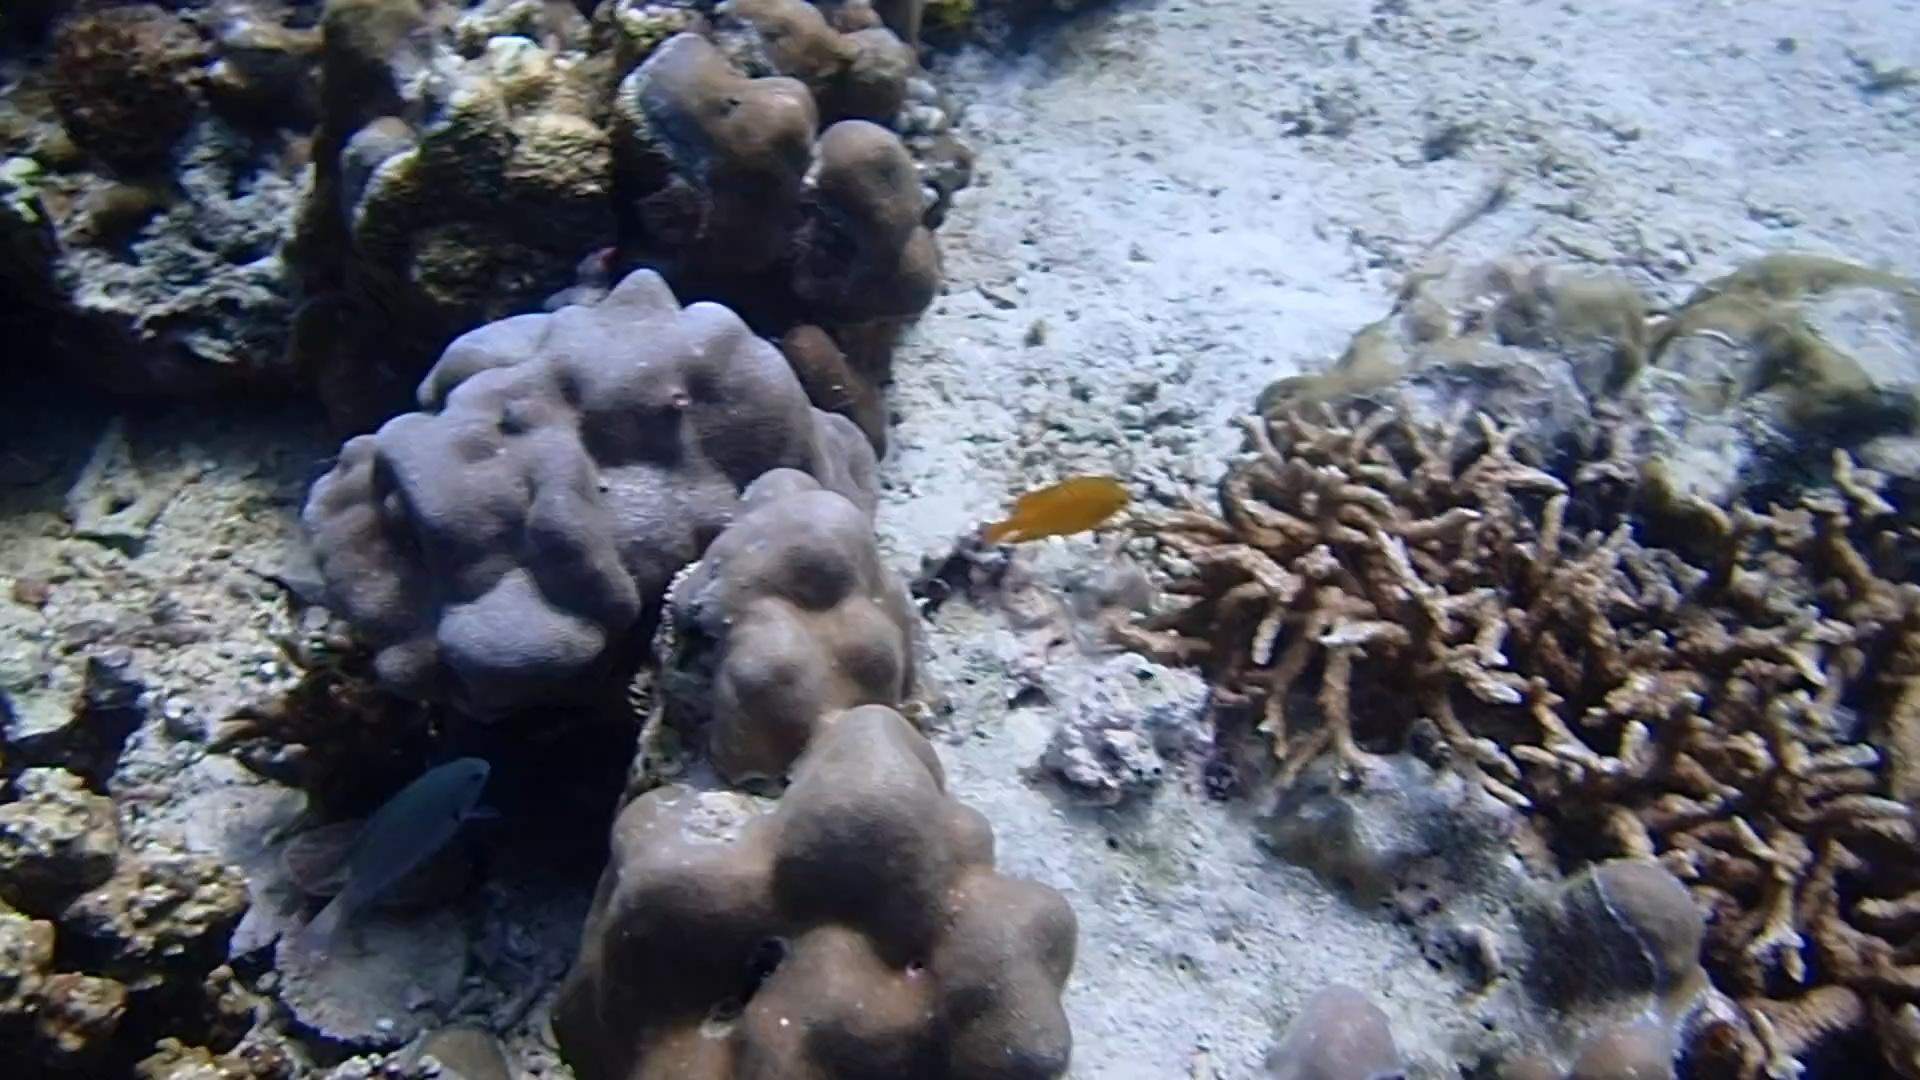Blue Fish Two: (287, 745, 500, 959)
Yellow Fish: (965, 463, 1142, 551)
